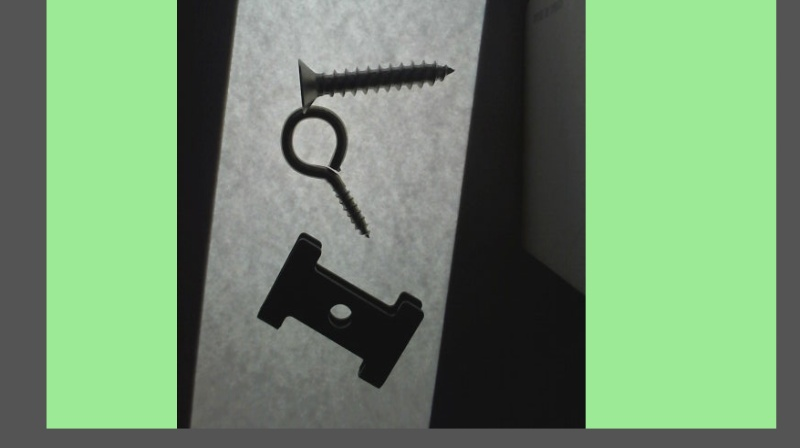O001: (279, 103, 371, 240)
O002: (254, 233, 428, 388)
S001: (294, 55, 455, 112)
